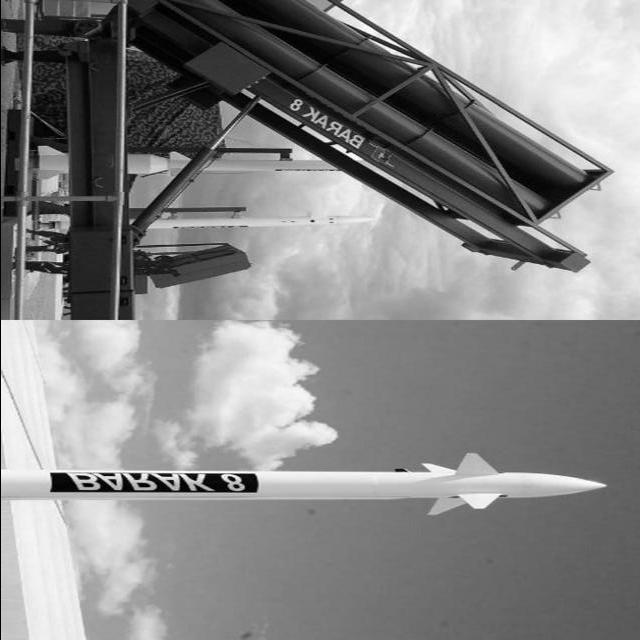Missile: (0, 453, 624, 514)
